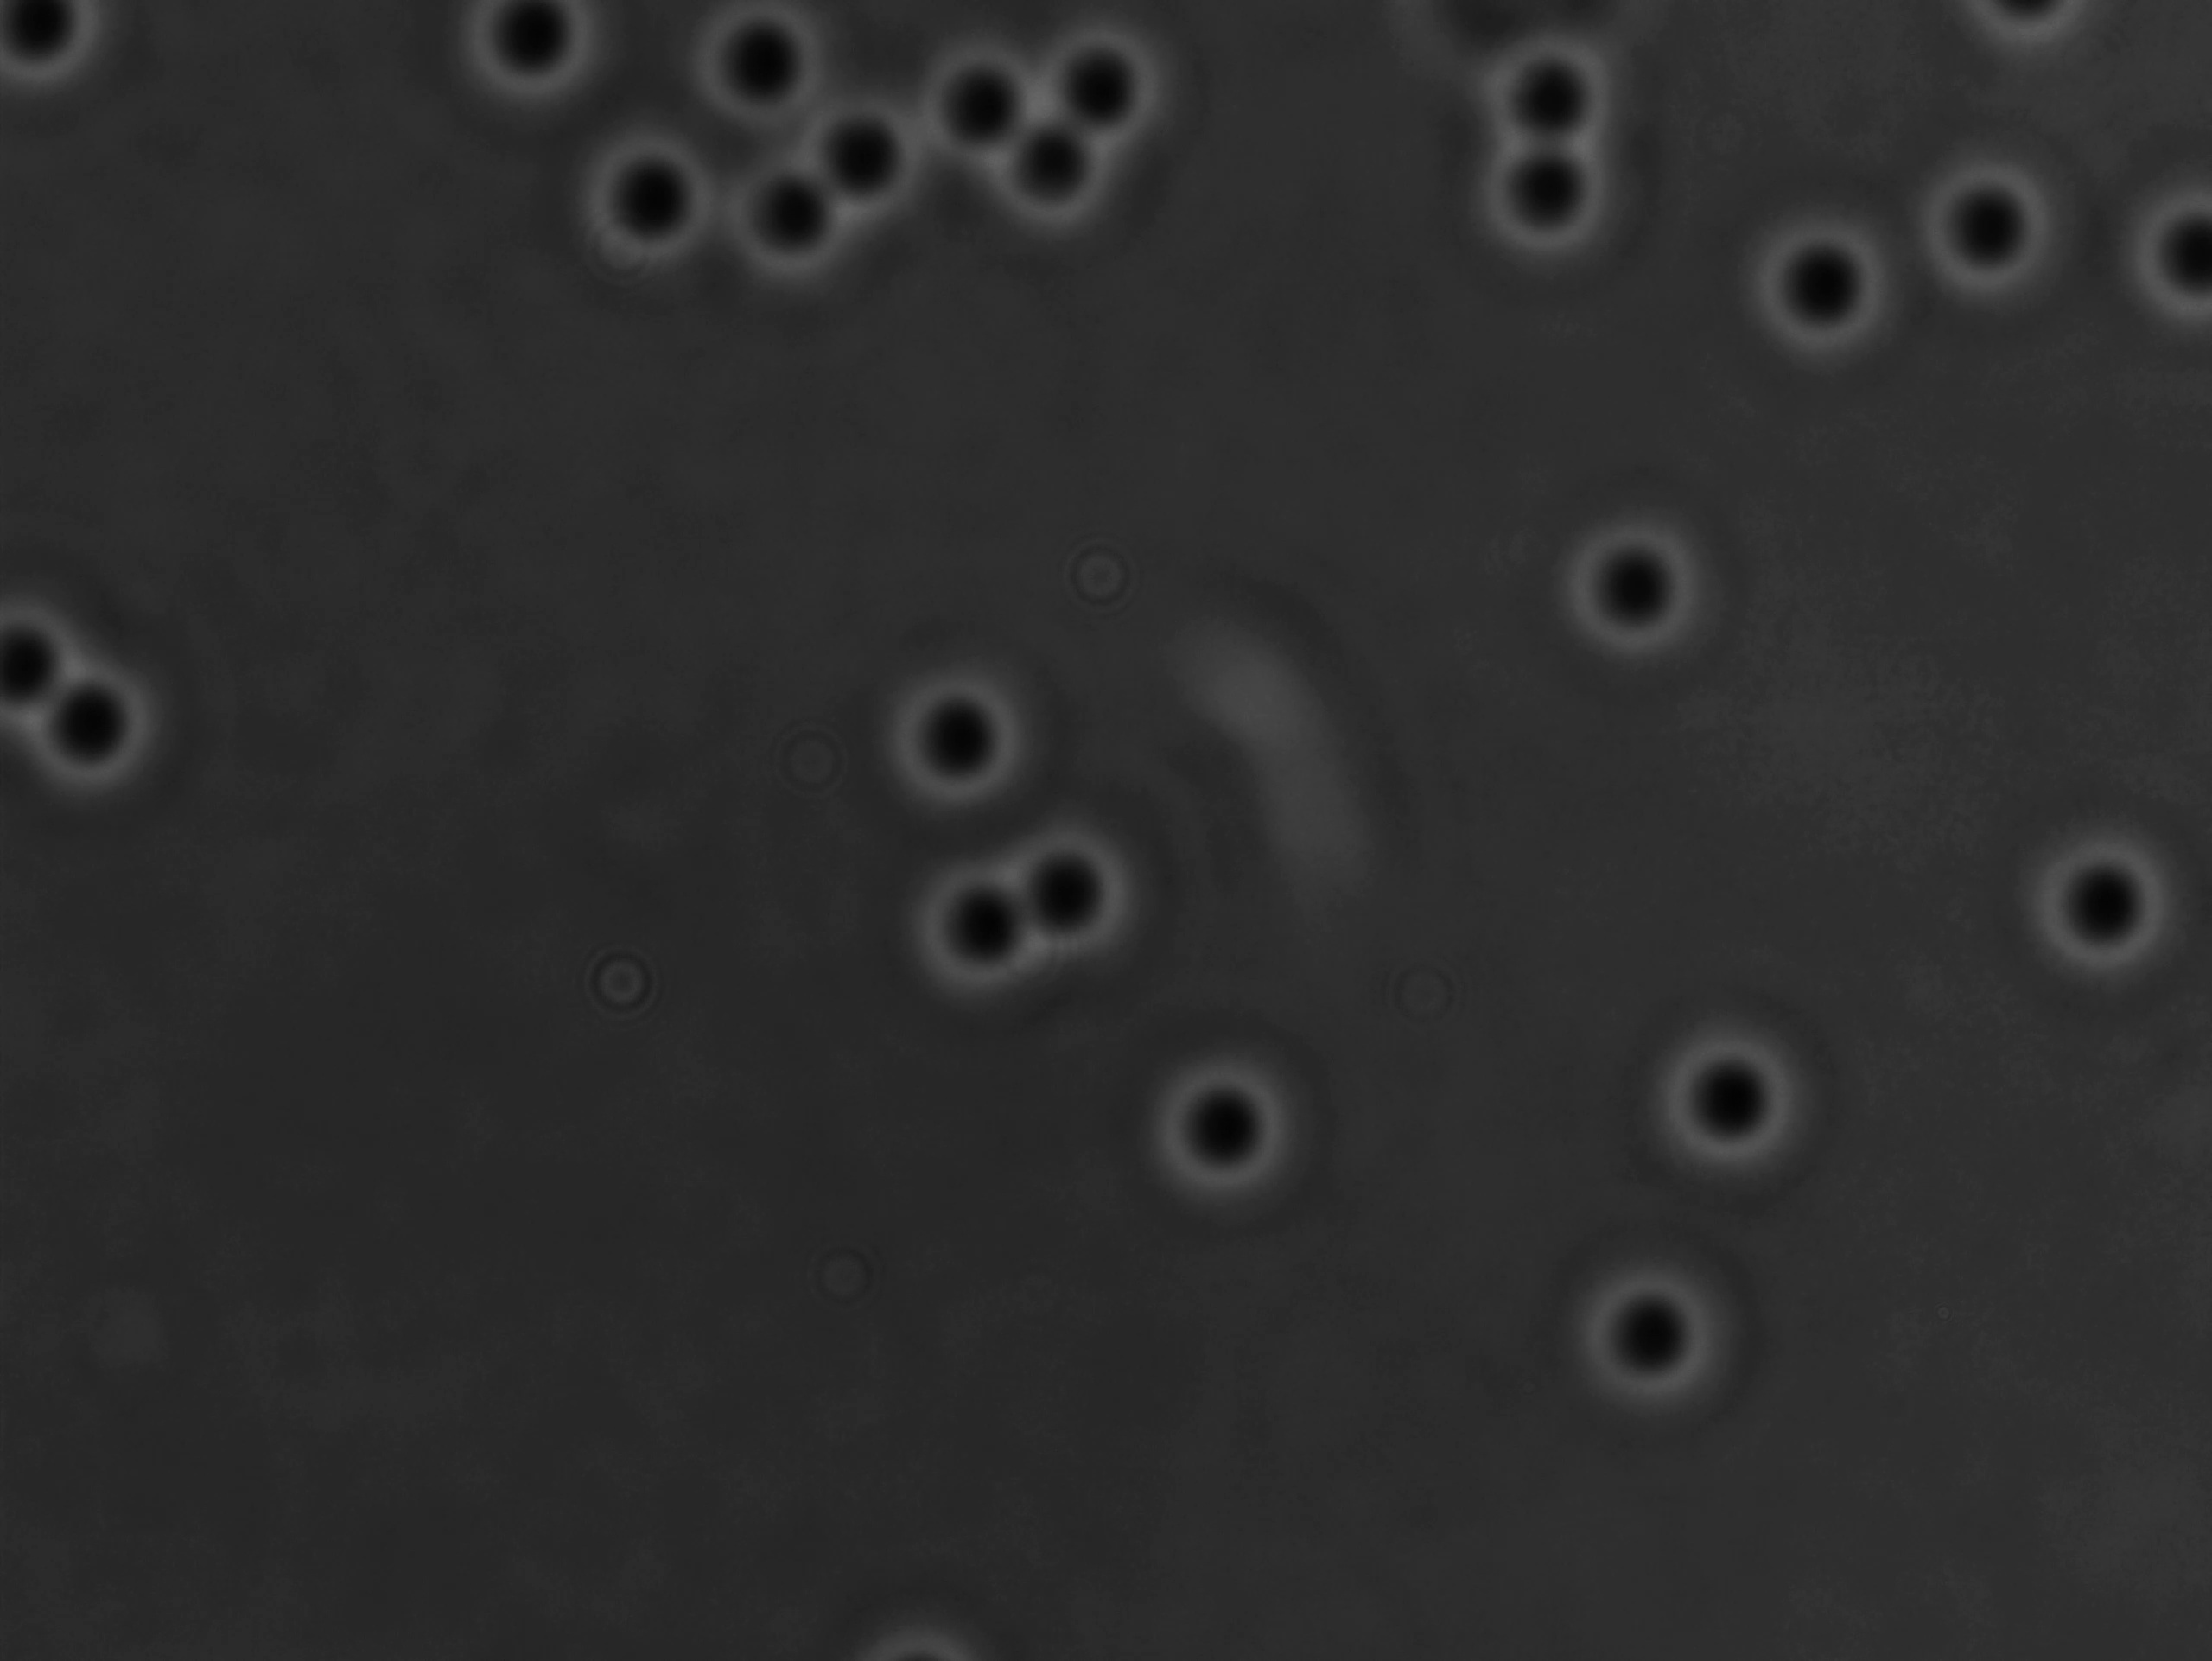depth:-80: (1636, 1000, 1830, 1200), (1903, 138, 2086, 335), (1567, 1254, 1757, 1436), (2022, 808, 2195, 1005), (1460, 24, 1643, 206), (904, 0, 1087, 181), (1132, 1038, 1317, 1218), (1739, 206, 1924, 384), (1460, 131, 1647, 297), (872, 653, 1048, 824), (556, 115, 731, 283), (968, 89, 1137, 260), (701, 133, 870, 302), (1546, 509, 1718, 675), (785, 77, 942, 237)
